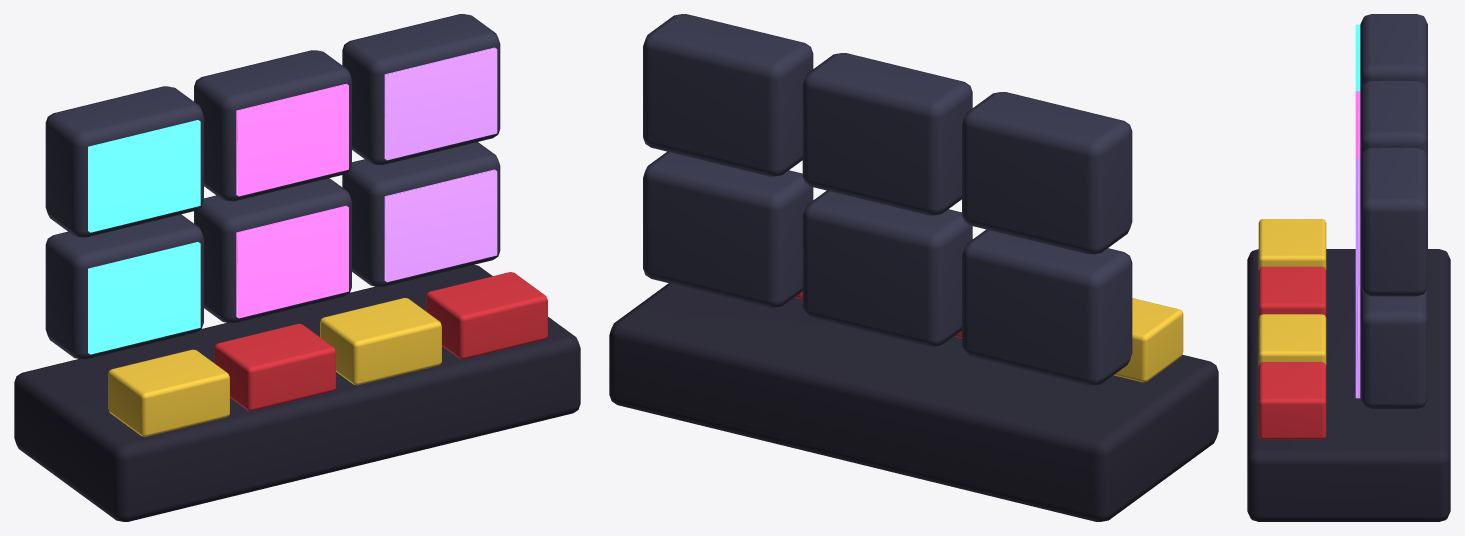
File: mall_display_tech.glb
3 renders of one model, left to right at view 1: azimuth 30°, elevation 25°; view 2: azimuth 150°, elevation 25°; view 3: azimuth 270°, elevation 25°, orthographic. The views are drawn at different scales.
Visible parts, largest first — view 1: DisplayTech; view 2: DisplayTech; view 3: DisplayTech.
Boxes of the visible parts, x1,y1,x2,y2 form: DisplayTech: (14,14,580,521); DisplayTech: (609,14,1218,521); DisplayTech: (1247,14,1450,521).
Size of the model in its own units: 2.2 by 1.54 by 0.9.
